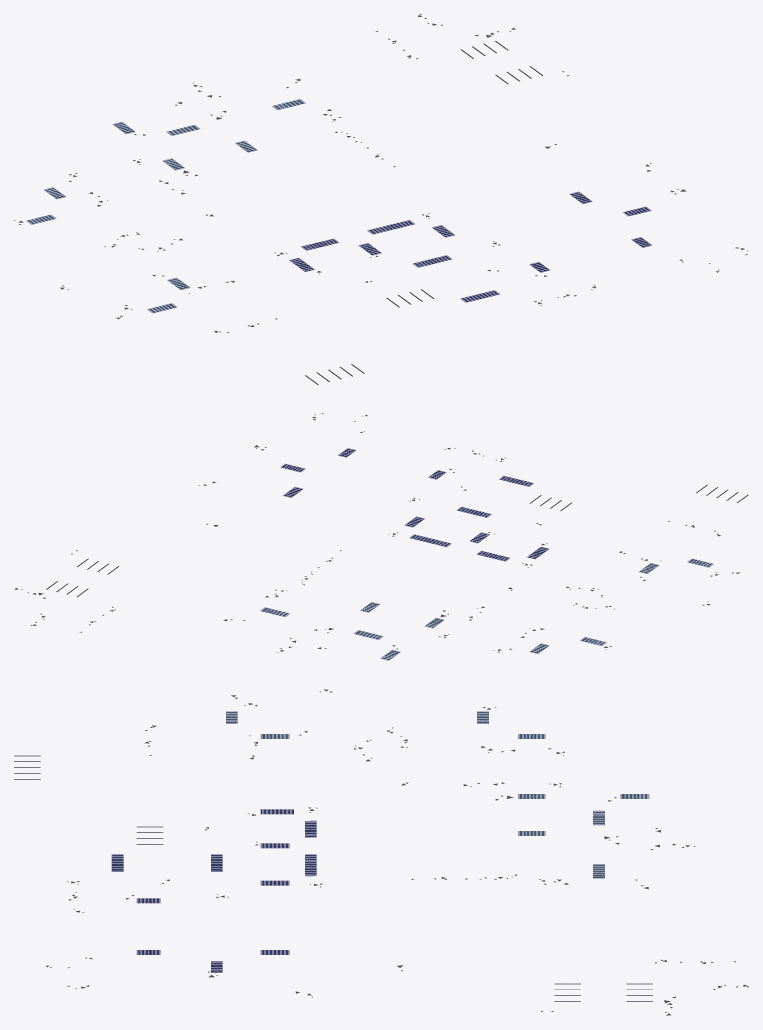
Rendered from World_Ground_Decor.gltf.
3 renders of one model, top to bottom at view 1: azimuth 30°, elevation 25°; view 2: azimuth 150°, elevation 25°; view 3: azimuth 270°, elevation 25°, orthographic. The views are drawn at different scales.
Parts seen in each view (by area): view 1: World_Ground_Decor; view 2: World_Ground_Decor; view 3: World_Ground_Decor.
Boxes of the visible parts, x1=… form: World_Ground_Decor: x1=14, y1=14, x2=748, y2=384; World_Ground_Decor: x1=14, y1=413, x2=748, y2=660; World_Ground_Decor: x1=14, y1=689, x2=748, y2=1015.
Size of the model in its own units: 215 by 4.04 by 213.
Materials: 1 (1 with a texture image).
